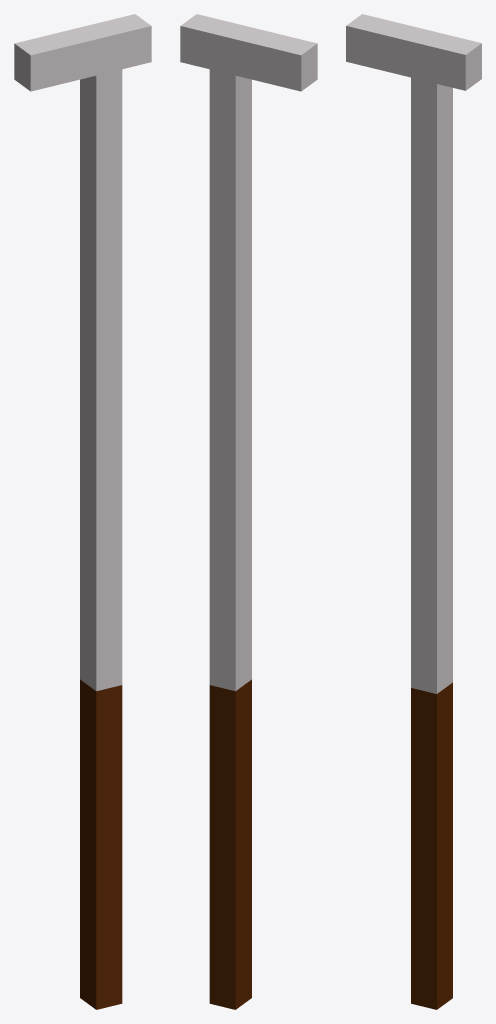
File: putter.fbx
The picture shows the model from 3 angles, left to right: view 1: azimuth 30°, elevation 25°; view 2: azimuth 150°, elevation 25°; view 3: azimuth 330°, elevation 25°; orthographic projection.
Parts seen in each view (by area): view 1: Cube; view 2: Cube; view 3: Cube.
Boxes of the visible parts, box(x1,y1,x2,y2) form: Cube: box(14, 14, 151, 1009); Cube: box(180, 14, 317, 1009); Cube: box(346, 14, 481, 1009).
Bounding box in the file's own units: 24.67 × 189 × 5.77.
